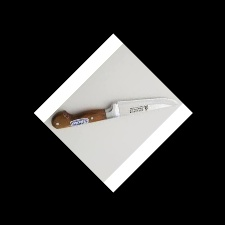k1: (107, 92, 180, 118)
